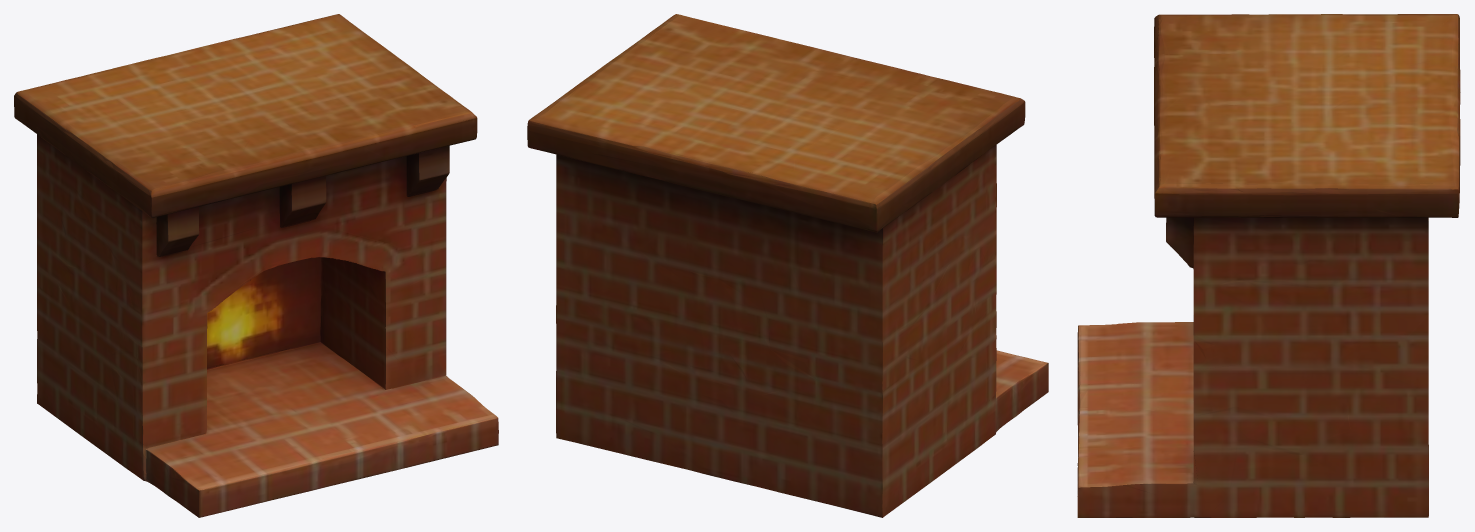
Rendered from fireplace.glb.
The picture shows the model from 3 angles, left to right: view 1: azimuth 30°, elevation 25°; view 2: azimuth 150°, elevation 25°; view 3: azimuth 270°, elevation 25°; orthographic projection. The views are drawn at different scales.
Parts seen in each view (by area): view 1: geometry_0; view 2: geometry_0; view 3: geometry_0.
Part boxes in pixels (x1,y1,x2,y2): geometry_0: [14, 14, 498, 517]; geometry_0: [527, 14, 1048, 517]; geometry_0: [1077, 14, 1460, 517].
Bounding box in the file's own units: 1 × 0.8927 × 0.9172.
1 material, 1 textured.
